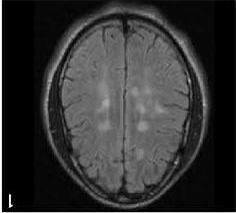Normal_Brain: (1, 2, 236, 213)
